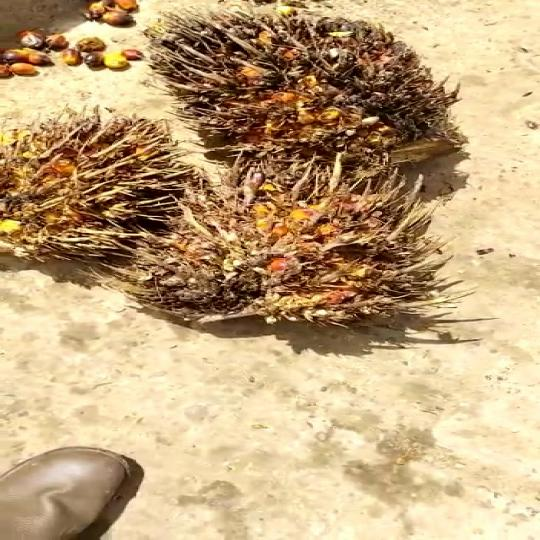terlalu masak: (115, 164, 485, 329), (136, 6, 470, 168), (0, 104, 171, 268)
